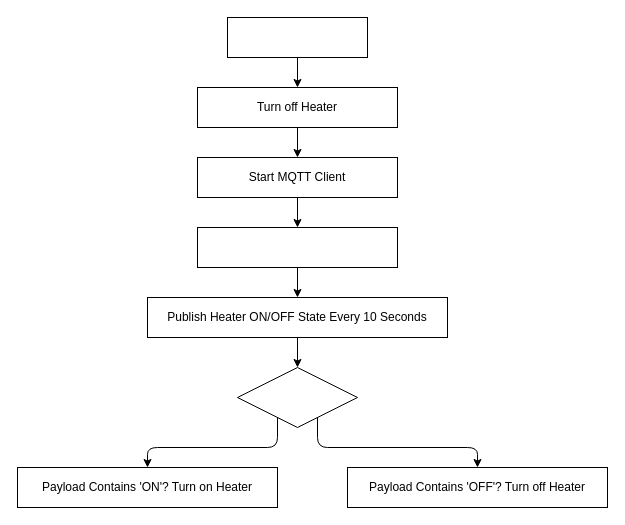
Some shapes in this 625 by 525 pixel diagram are drawn without their labels. The centre of each missing label's shape, as x and y in pixels:
"MQTT message Received?" belongs at point (297, 397).
"Start" belongs at point (297, 37).
"Subscribe MQTT Client" belongs at point (297, 247).
